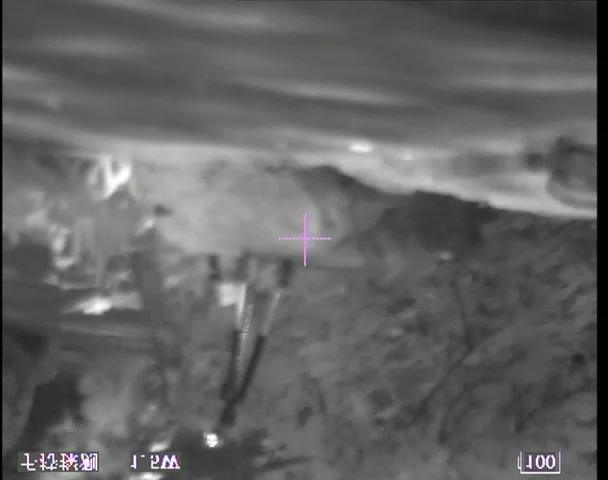my: (203, 434, 220, 449)
